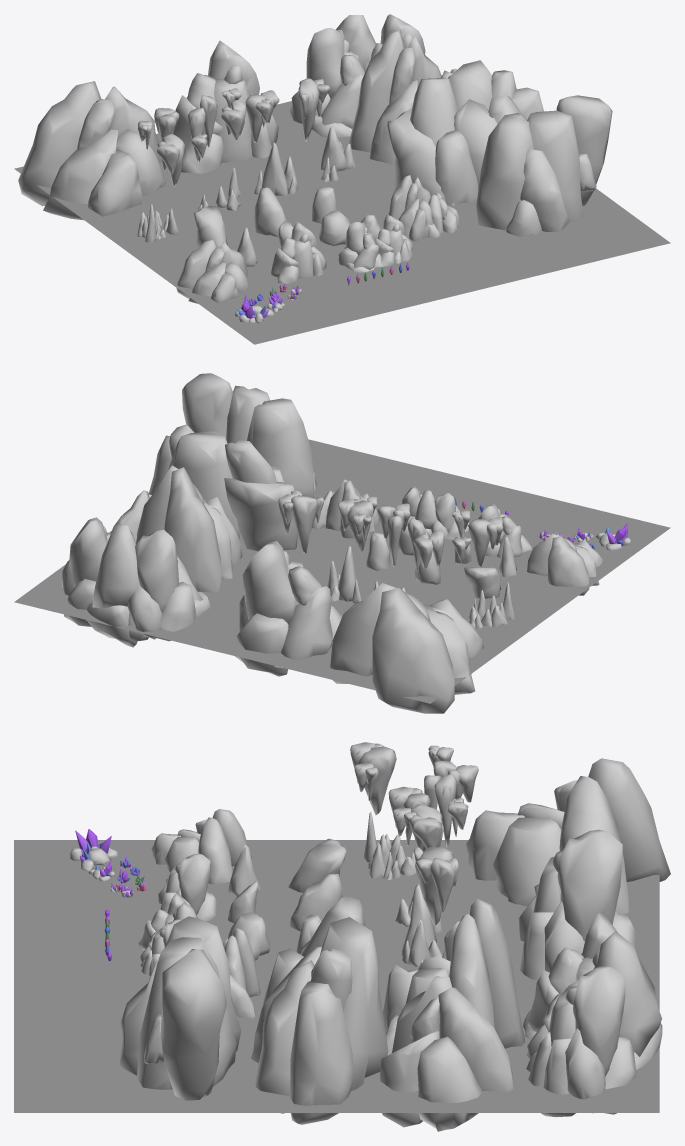
File: Caves_Pieces_1A3.fbx
3 views of the same model, one above another, from view 1: azimuth 30°, elevation 25°; view 2: azimuth 150°, elevation 25°; view 3: azimuth 270°, elevation 25° (orthographic). The views are drawn at different scales.
Parts seen in each view (by area): view 1: Stone_Plane_3A, Cave_Large_Wall_2A2, Cave_Large_Cluster_2A4, Cave_Large_Wall_2A1, Cave_Large_Cluster_2A2, Cave_Large_Cluster_2A3, Cave_Large_Cluster_2A1, Cave_Small_Cluster_2A4, Cave_Small_Cluster_2A2, Cave_Small_Cluster_2A1, Stalactites_2A3, Cave_Small_Cluster_2A3 (+12 smaller); view 2: Stone_Plane_3A, Cave_Large_Cluster_2A4, Cave_Large_Cluster_2A2, Cave_Large_Wall_2A1, Cave_Large_Cluster_2A3, Cave_Large_Wall_2A2, Cave_Large_Cluster_2A1, Cave_Small_Cluster_2A4, Stalactites_2A3, Cave_Small_Cluster_2A2, Stalactites_2A4, Stalactites_2A2 (+9 smaller); view 3: Stone_Plane_3A, Cave_Large_Cluster_2A1, Cave_Large_Wall_2A1, Cave_Large_Cluster_2A2, Cave_Large_Wall_2A2, Cave_Large_Cluster_2A4, Cave_Large_Cluster_2A3, Cave_Small_Cluster_2A4, Stalactites_2A3, Cave_Small_Cluster_2A3, Stalactites_2A4, Cave_Small_Cluster_2A1 (+11 smaller).
Part boxes in pixels (x1=…): Stone_Plane_3A: x1=14, y1=75, x2=670, y2=344; Cave_Large_Wall_2A2: x1=476, y1=95, x2=612, y2=236; Cave_Large_Cluster_2A4: x1=18, y1=81, x2=165, y2=220; Cave_Large_Wall_2A1: x1=387, y1=60, x2=543, y2=205; Cave_Large_Cluster_2A2: x1=290, y1=14, x2=425, y2=137; Cave_Large_Cluster_2A3: x1=173, y1=40, x2=278, y2=173; Cave_Large_Cluster_2A1: x1=348, y1=30, x2=456, y2=164; Cave_Small_Cluster_2A4: x1=176, y1=239, x2=249, y2=303; Cave_Small_Cluster_2A2: x1=338, y1=215, x2=412, y2=272; Cave_Small_Cluster_2A1: x1=388, y1=175, x2=460, y2=241; Stalactites_2A3: x1=200, y1=88, x2=279, y2=146; Cave_Small_Cluster_2A3: x1=271, y1=221, x2=326, y2=283; Stone_Plane_3A: x1=14, y1=439, x2=670, y2=703; Cave_Large_Cluster_2A4: x1=330, y1=583, x2=483, y2=713; Cave_Large_Cluster_2A2: x1=61, y1=517, x2=210, y2=647; Cave_Large_Wall_2A1: x1=148, y1=424, x2=297, y2=551; Cave_Large_Cluster_2A3: x1=235, y1=541, x2=341, y2=676; Cave_Large_Wall_2A2: x1=182, y1=373, x2=316, y2=497; Cave_Large_Cluster_2A1: x1=111, y1=465, x2=242, y2=592; Cave_Small_Cluster_2A4: x1=527, y1=533, x2=603, y2=595; Stalactites_2A3: x1=338, y1=496, x2=410, y2=566; Cave_Small_Cluster_2A2: x1=402, y1=486, x2=469, y2=539; Stalactites_2A4: x1=278, y1=490, x2=323, y2=553; Stalactites_2A2: x1=408, y1=518, x2=471, y2=571; Stone_Plane_3A: x1=14, y1=840, x2=659, y2=1112; Cave_Large_Cluster_2A1: x1=379, y1=898, x2=525, y2=1131; Cave_Large_Wall_2A1: x1=251, y1=896, x2=388, y2=1124; Cave_Large_Cluster_2A2: x1=523, y1=912, x2=662, y2=1117; Cave_Large_Wall_2A2: x1=120, y1=916, x2=241, y2=1100; Cave_Large_Cluster_2A4: x1=466, y1=758, x2=670, y2=914; Cave_Large_Cluster_2A3: x1=518, y1=829, x2=636, y2=979; Cave_Small_Cluster_2A4: x1=151, y1=809, x2=251, y2=884; Stalactites_2A3: x1=388, y1=774, x2=468, y2=851; Cave_Small_Cluster_2A3: x1=158, y1=853, x2=216, y2=921; Stalactites_2A4: x1=414, y1=847, x2=458, y2=926; Cave_Small_Cluster_2A1: x1=223, y1=928, x2=260, y2=1018.
Size of the model in its own units: 7934 by 2448 by 7792.
